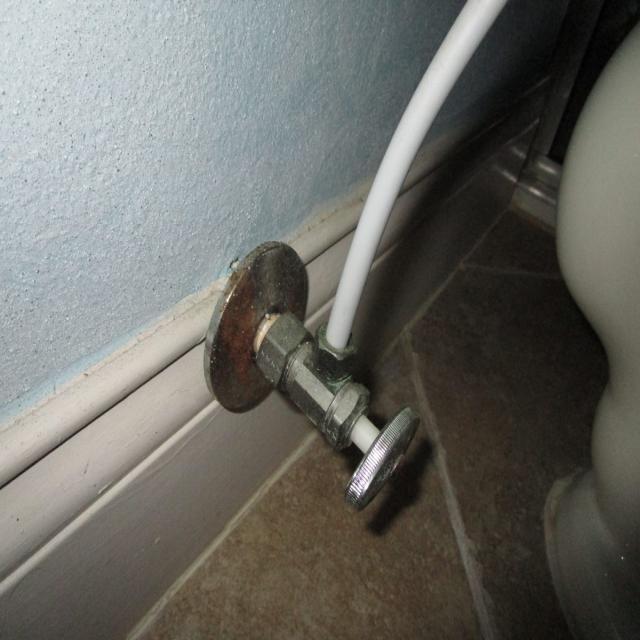good_line: (326, 75, 441, 326)
